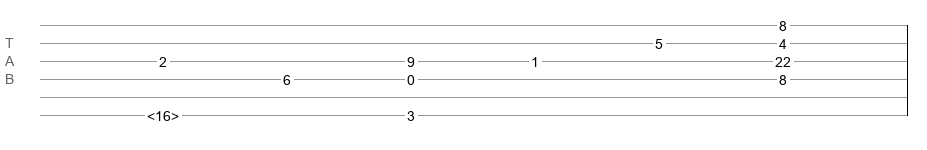0: (407, 72, 415, 82)
1: (531, 54, 539, 64)
2: (159, 54, 167, 64)
22: (775, 54, 791, 64)
3: (407, 108, 415, 118)
4: (779, 36, 787, 46)
5: (655, 36, 663, 46)
6: (283, 72, 291, 82)
8: (779, 18, 787, 28), (779, 72, 787, 82)
9: (407, 54, 415, 64)
harmonic: (147, 108, 179, 118)
